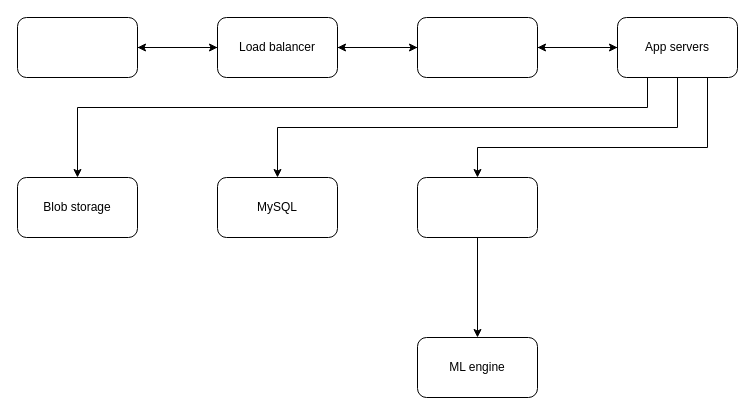
Image size: 755x415. Some labels were removed from this diagram. Each missing label, with the centre of its shape:
"HBase" belongs at point (477, 207).
"User" belongs at point (77, 47).
"Web servers" belongs at point (477, 47).
